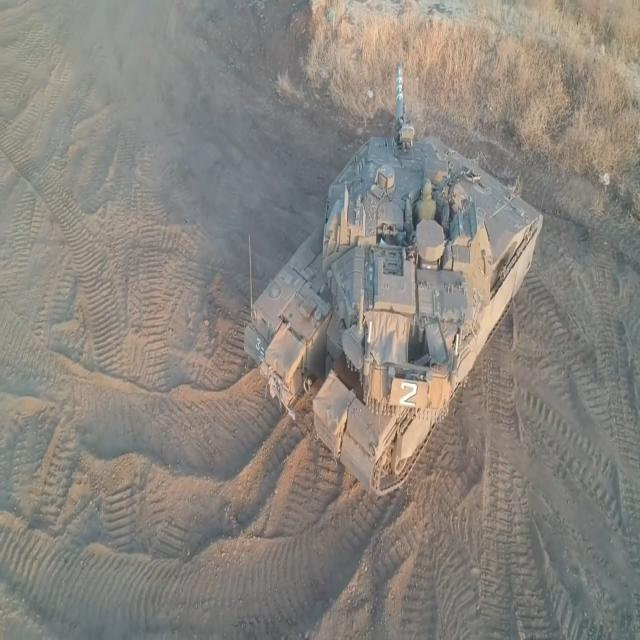tank: (234, 48, 550, 499)
